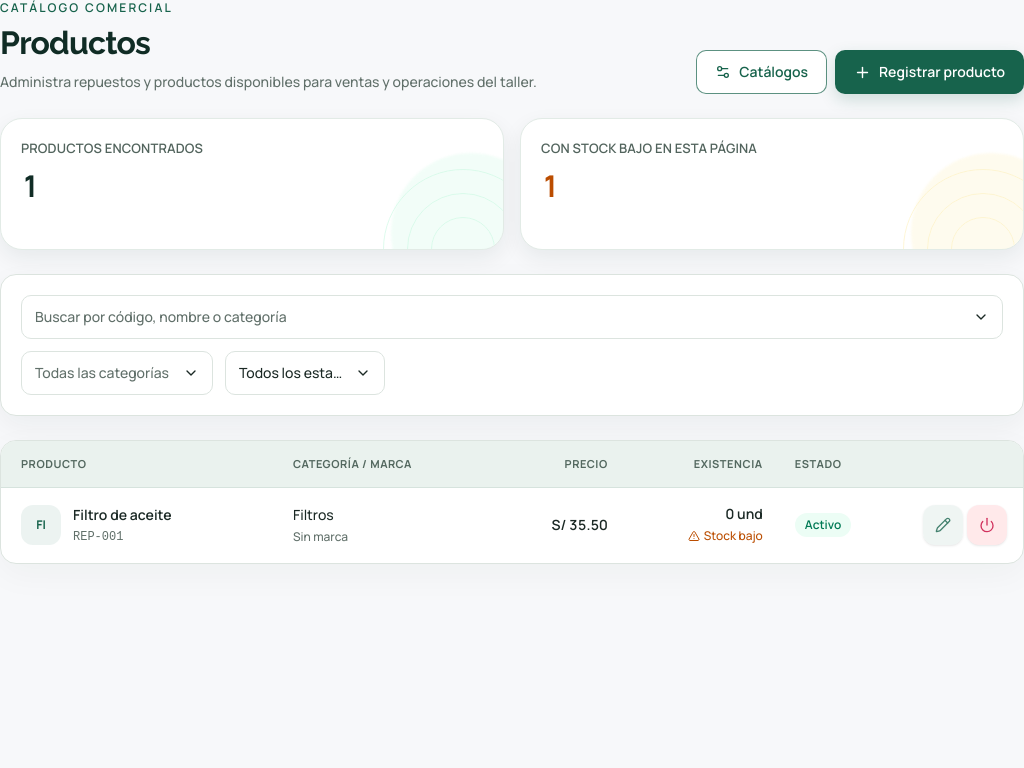
Scenario: Página de productos › abre el detalle en un diálogo sin navegar fuera del listado
The image size is (1024, 768).
expect the text "REP-001" is shown: met, box [73,530,123,544]
expect the text "Stock bajo" is shown: met, box [688,528,763,544]
What coordinates should you click on to do the following:
click the button with aria-label "Abrir ficha de Filtro de aceite"
I would click on:
 (122, 515)
Its box is [73,505,172,525].
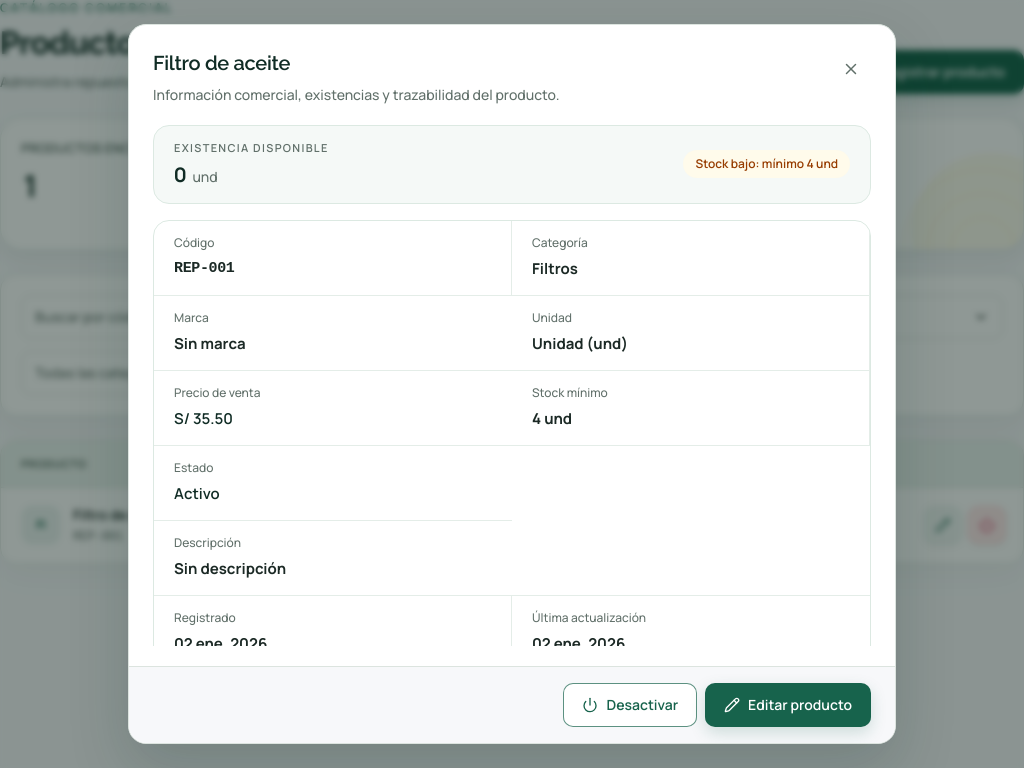
expect the dialog "Filtro de aceite" is shown: met
expect the text "Existencia disponible" is shown: met, box [174,140,329,156]
